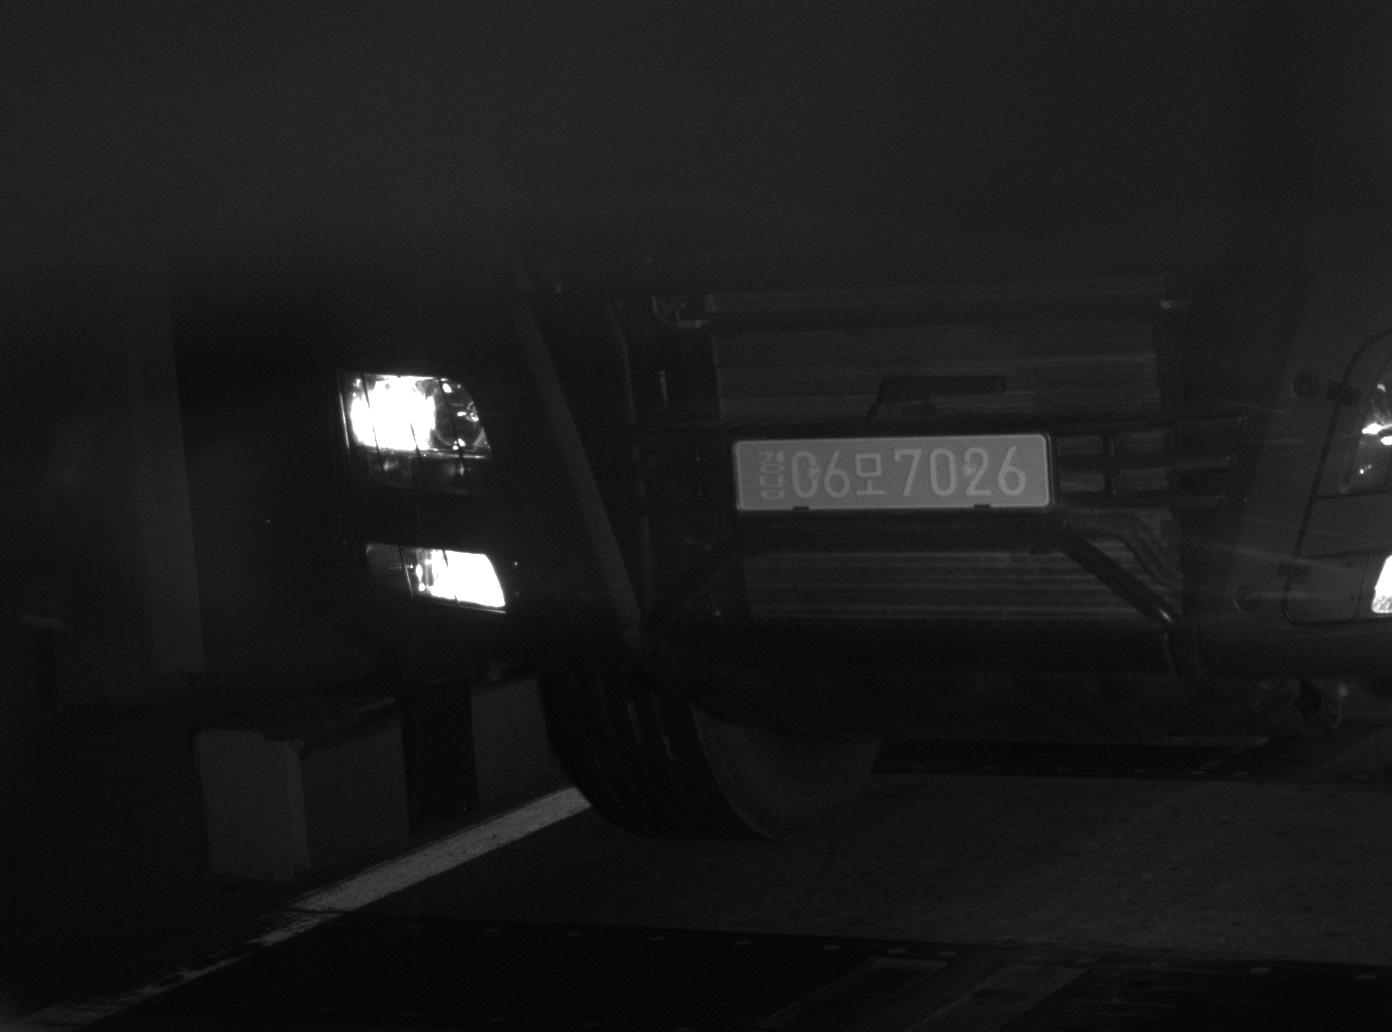car: (299, 1, 1390, 846)
plate: (721, 423, 1057, 513)
